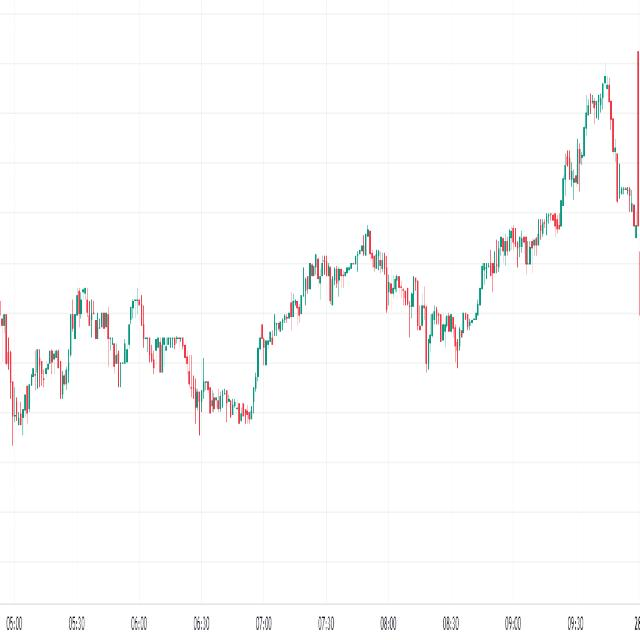Head-Shoulders: (555, 52, 640, 267)
